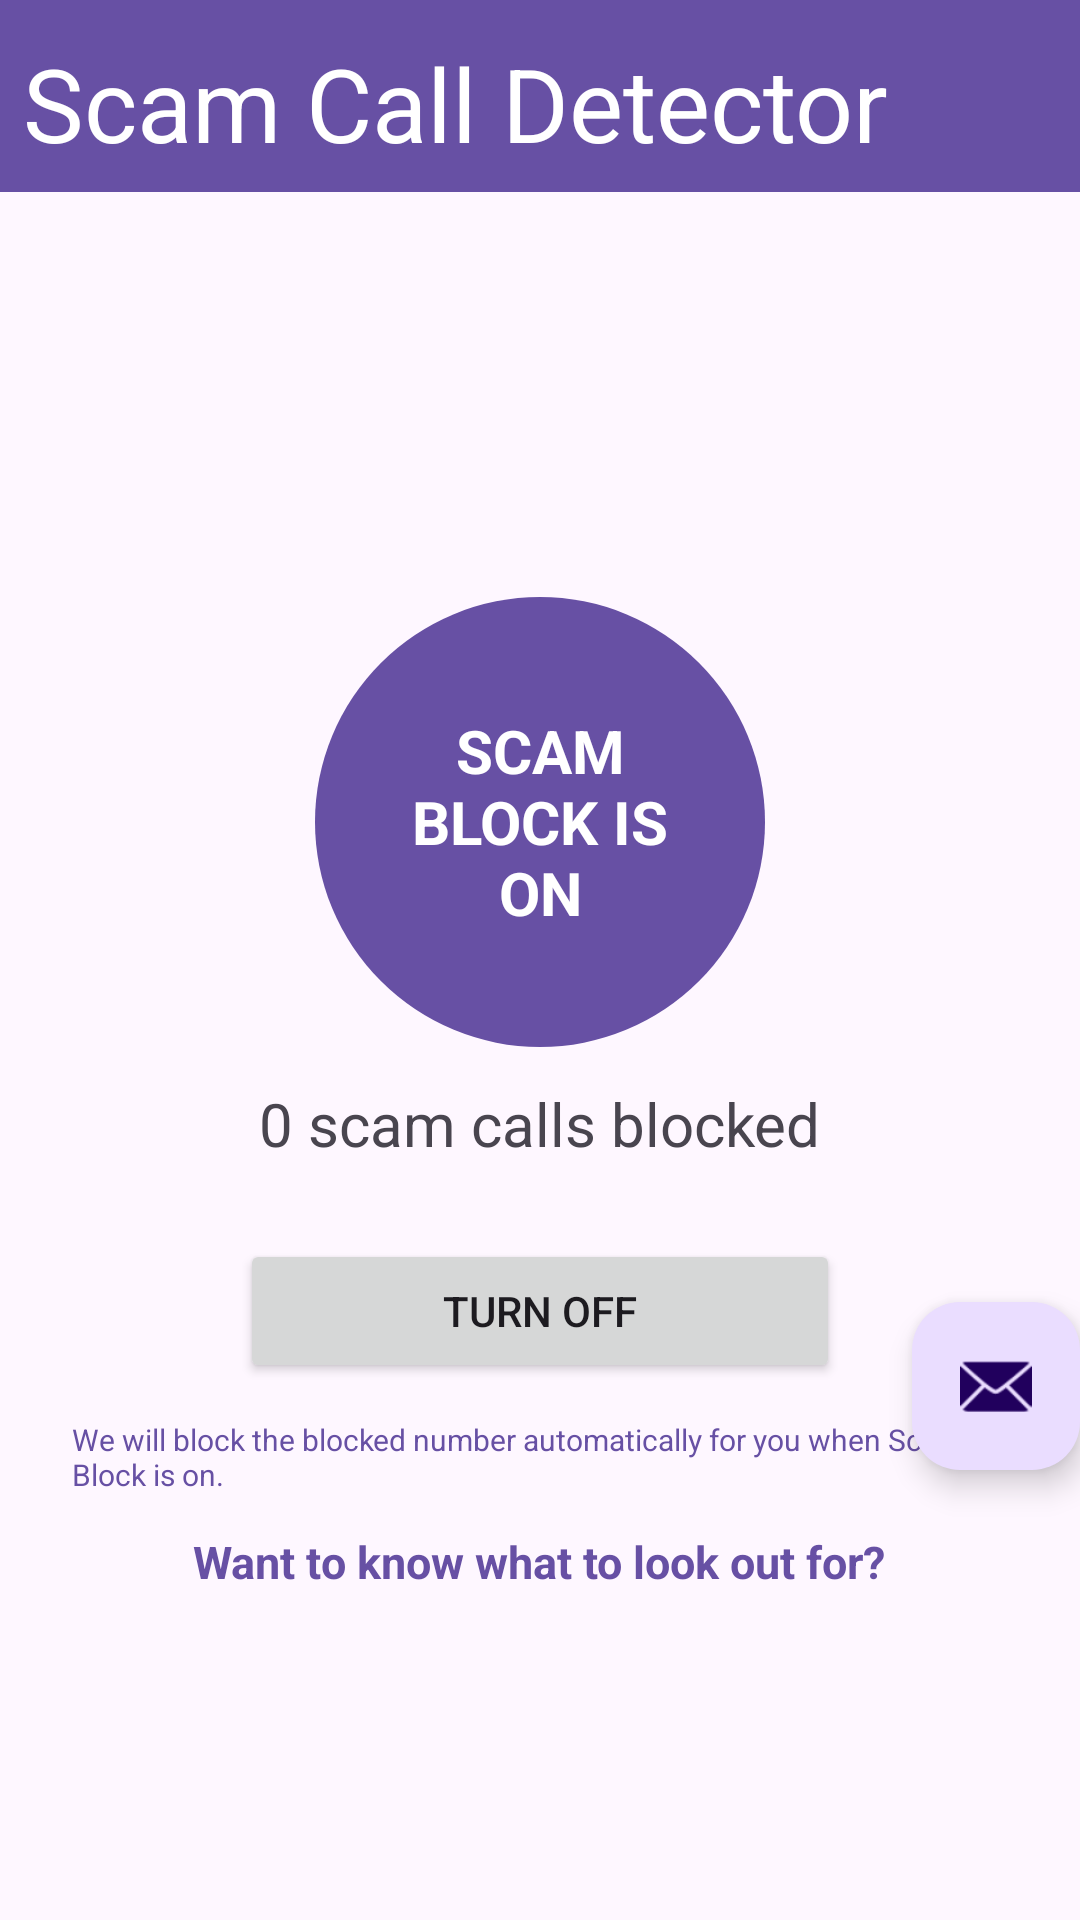

Icons on this 1080x1920 Android screen, each with its box as detection(x1, y1, x2, y2):
email: detection(912, 1302, 1080, 1470)
